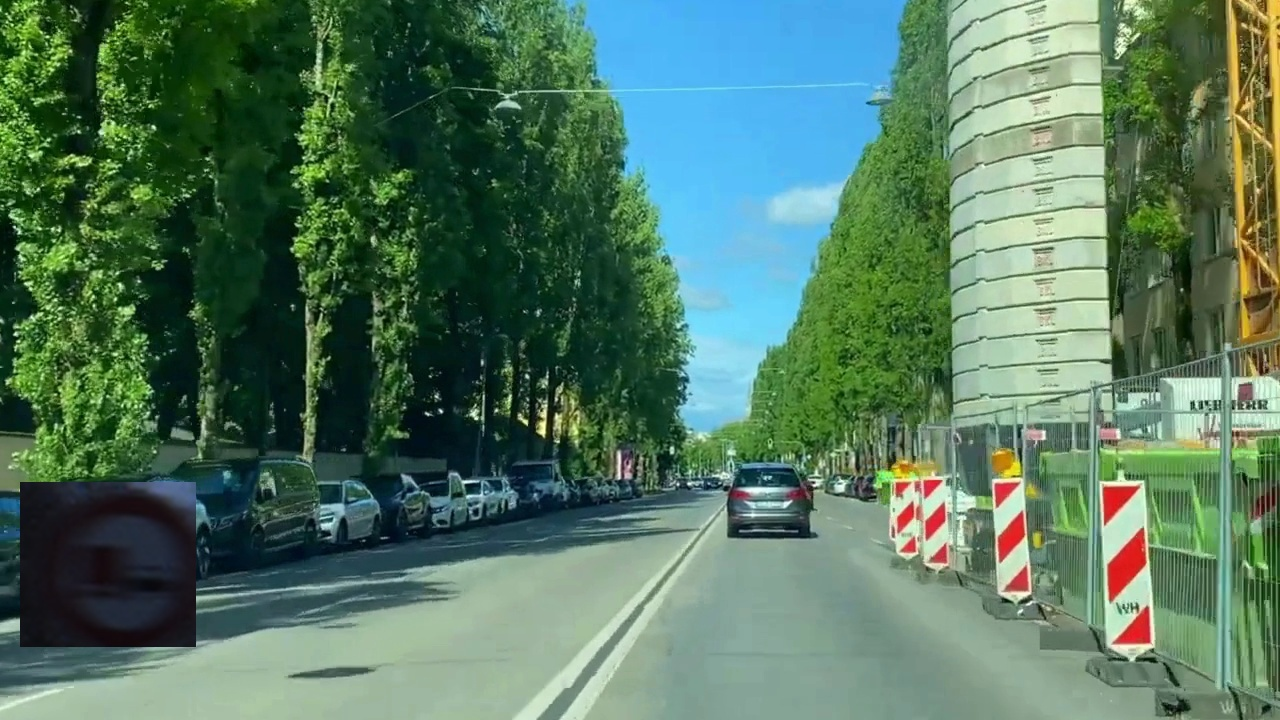No pass >3.5t: (20, 482, 196, 647)
